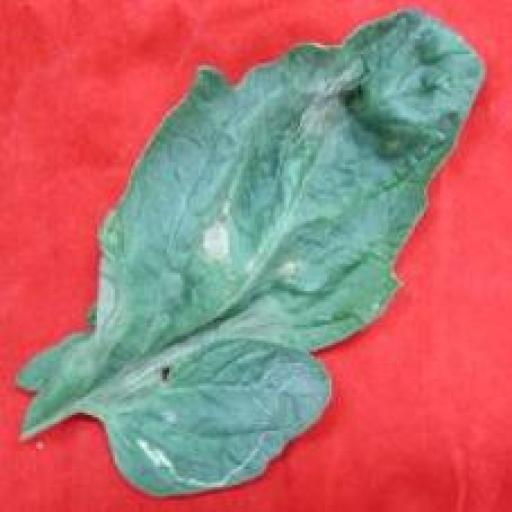Late Blight: (10, 1, 491, 501)
